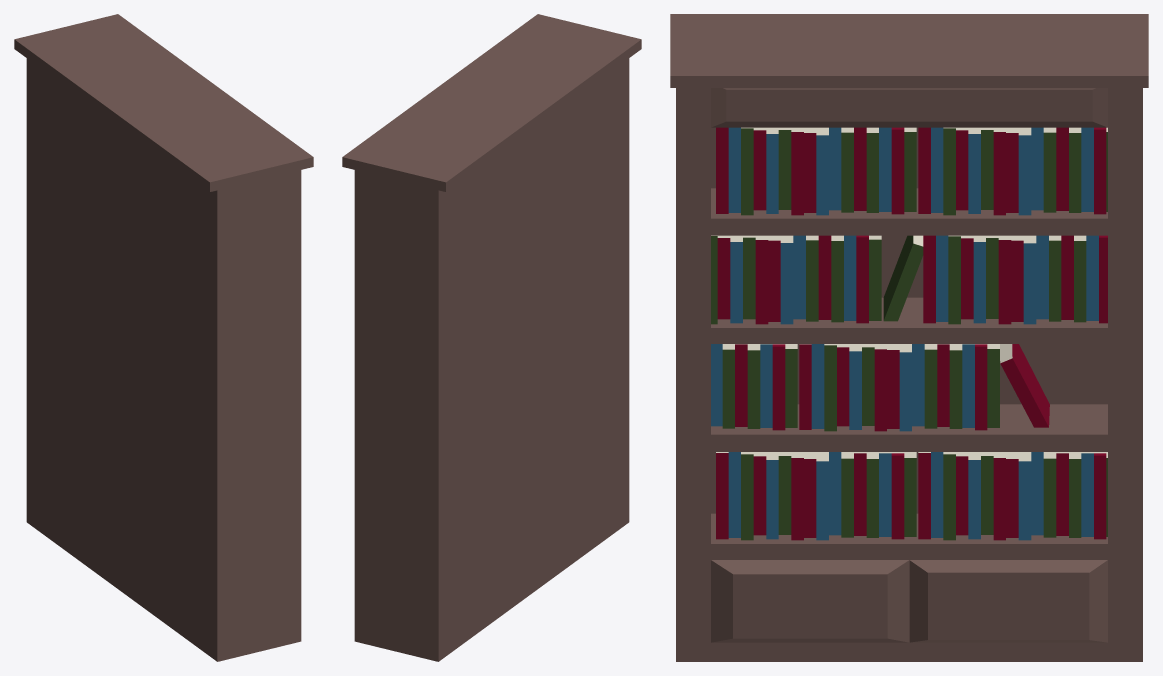
File: bookshelf-with-books.fbx
3 views of the same model, side by side, from view 1: azimuth 30°, elevation 25°; view 2: azimuth 150°, elevation 25°; view 3: azimuth 270°, elevation 25° (orthographic). The views are drawn at different scales.
Parts seen in each view (by area): view 1: pCube1; view 2: pCube1; view 3: pCube1, pCube13, pCube8, pCube9, pCube12, pCube7, pCube4, pCube6, pCube11, pCube10, pCube5.
Part boxes in pixels (<box>): pCube1: <box>14,14,313,661</box>; pCube1: <box>342,14,641,661</box>; pCube1: <box>670,14,1148,661</box>; pCube13: <box>716,452,916,540</box>; pCube8: <box>716,127,916,215</box>; pCube9: <box>799,344,999,431</box>; pCube12: <box>918,452,1107,540</box>; pCube7: <box>918,127,1107,215</box>; pCube4: <box>923,235,1107,324</box>; pCube6: <box>711,235,881,324</box>; pCube11: <box>711,344,797,430</box>; pCube10: <box>1000,344,1049,427</box>; pCube5: <box>883,235,923,321</box>.
Bounding box in the file's own units: 2.07 × 9.21 × 6.75.
